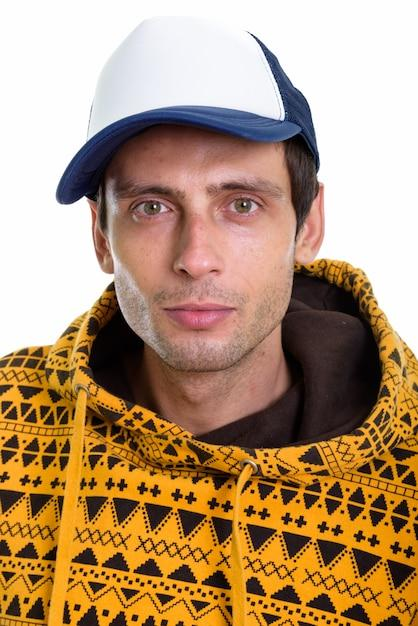cap: (43, 0, 338, 216)
